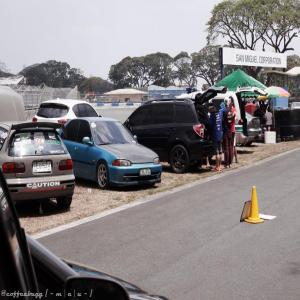Vehicle-registration-plate: (34, 161, 53, 174), (141, 169, 152, 176)
